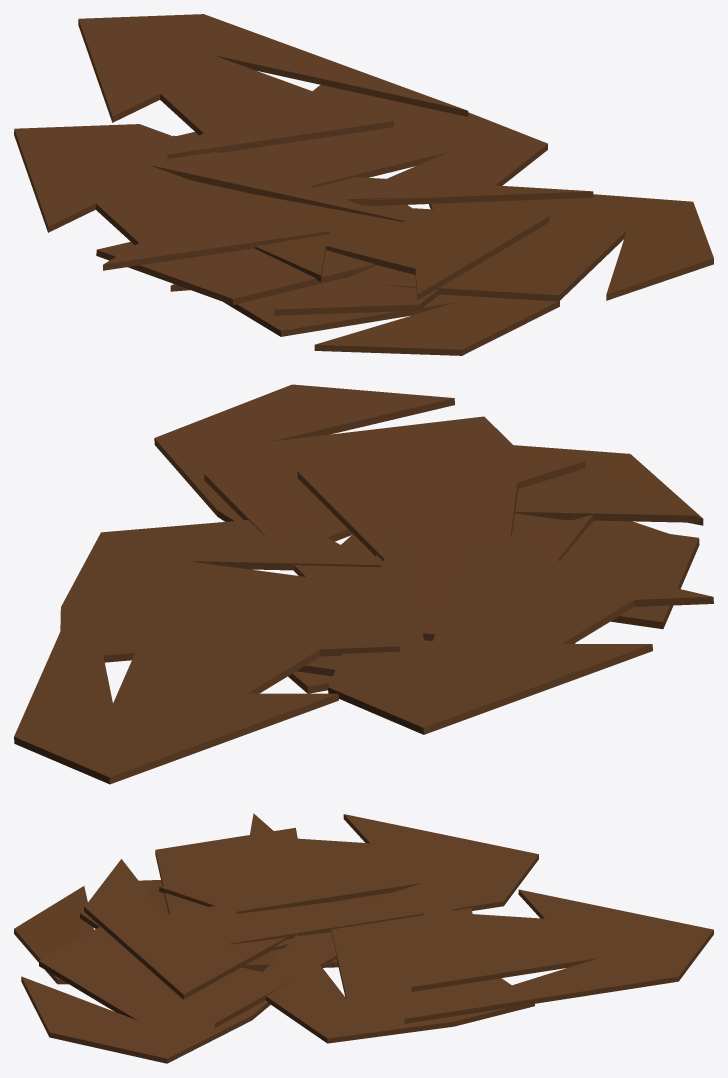
Rendered from Box_wood_broke.fbx.
3 views of the same model, one above another, from view 1: azimuth 30°, elevation 25°; view 2: azimuth 150°, elevation 25°; view 3: azimuth 270°, elevation 25° (orthographic). The views are drawn at different scales.
Visible parts, largest first — view 1: Circle.004, Circle.005, Circle.006, Circle.001, Circle.002, Circle.007, Circle.003; view 2: Circle.004, Circle.005, Circle.006, Circle.001, Circle.002, Circle.003, Circle.007, Circle; view 3: Circle.004, Circle.005, Circle.006, Circle.002, Circle.001, Circle.003, Circle.007, Circle.
Part boxes in pixels (x1,y1,x2,y2): Circle.004: (78,14,468,158); Circle.005: (14,124,403,270); Circle.006: (382,194,713,301); Circle.001: (205,177,593,300); Circle.002: (174,85,547,200); Circle.007: (223,278,559,355); Circle.003: (96,241,438,315); Circle.004: (14,572,399,784); Circle.005: (328,523,713,734); Circle.006: (154,384,563,541); Circle.001: (204,461,593,640); Circle.002: (60,520,381,676); Circle.003: (374,468,699,629); Circle.007: (513,445,703,533); Circle: (288,534,575,693); Circle.004: (404,889,713,1023); Circle.005: (230,813,538,944); Circle.006: (21,910,270,1063); Circle.002: (265,908,534,1043); Circle.001: (84,882,376,1028); Circle.003: (79,827,297,950); Circle.007: (14,880,264,984); Circle: (241,892,391,970).
Bounding box in the file's own units: 390 × 26.99 × 524.
